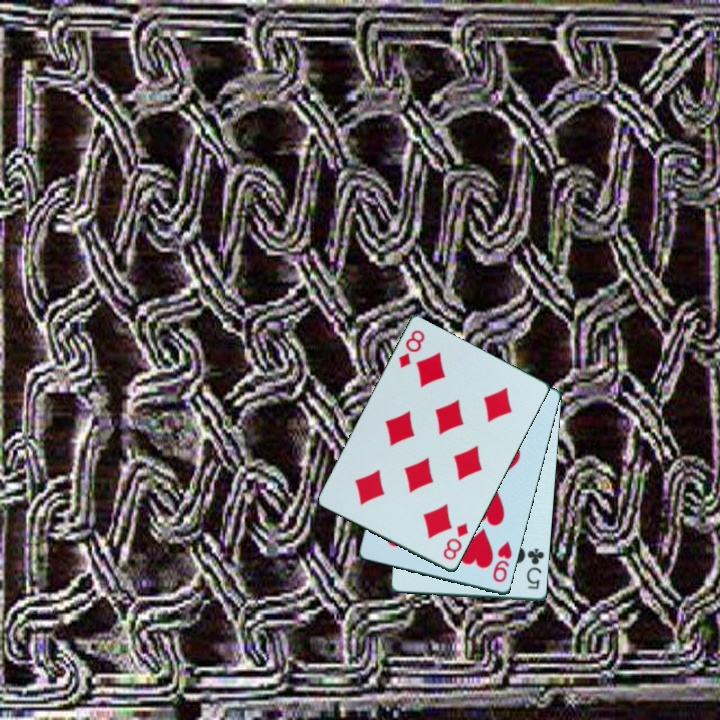5c: (523, 545, 548, 592)
8d: (395, 326, 428, 372), (439, 520, 472, 564)
9h: (489, 537, 515, 586)
